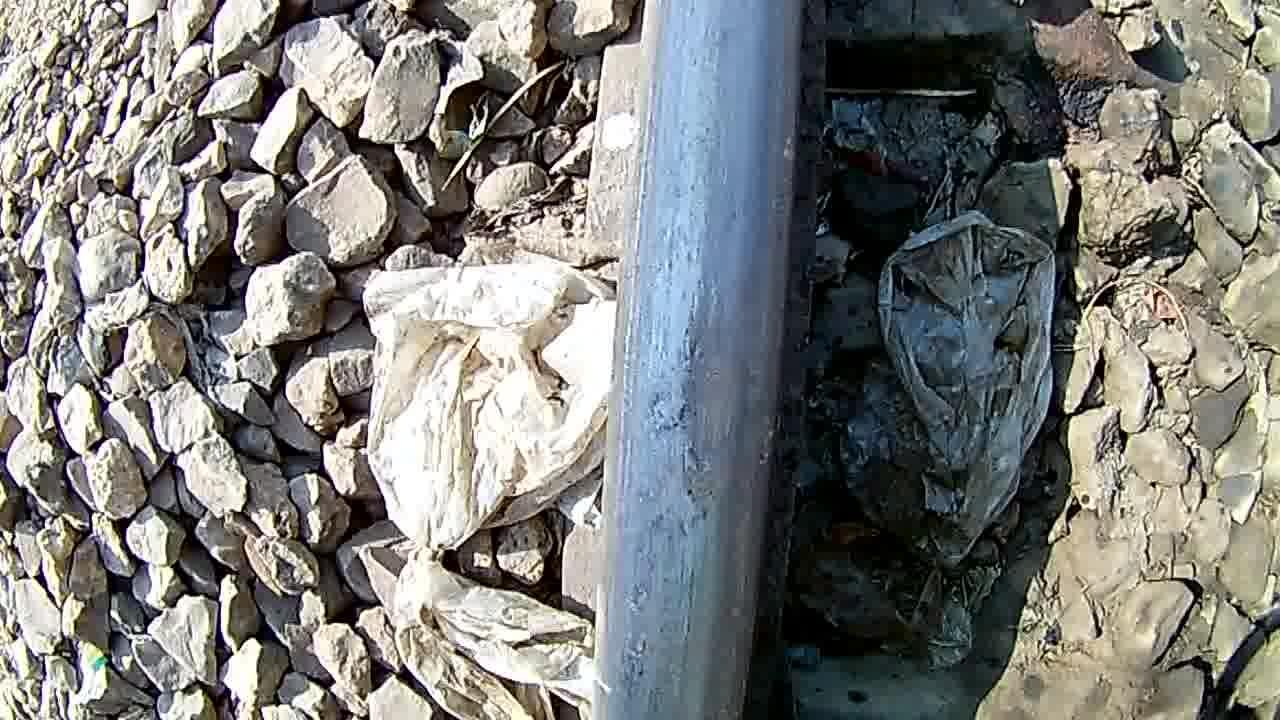bolt_missing: (594, 249, 821, 671)
